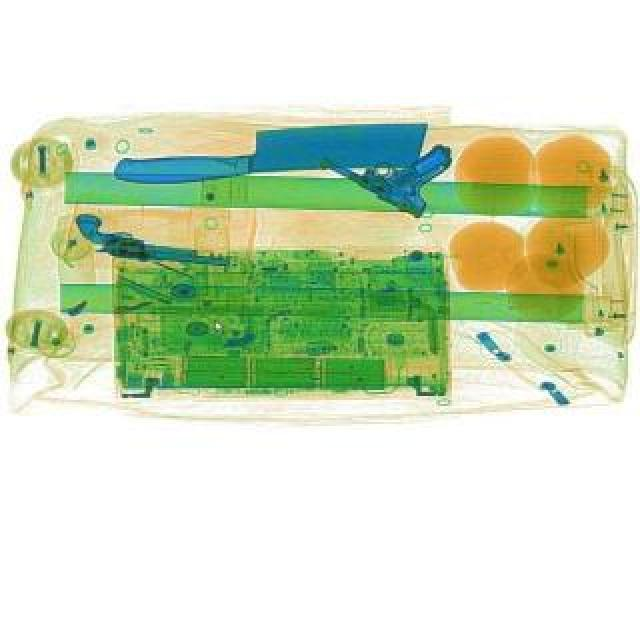gun: (314, 100, 458, 220), (68, 210, 232, 274)
knife: (112, 122, 428, 184)
